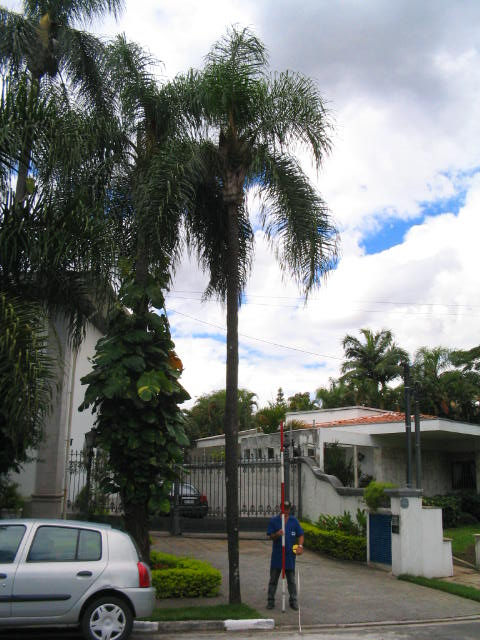crown: (120, 23, 343, 309)
stem: (199, 295, 265, 601)
stick: (272, 422, 289, 612)
tree: (116, 21, 346, 602)
